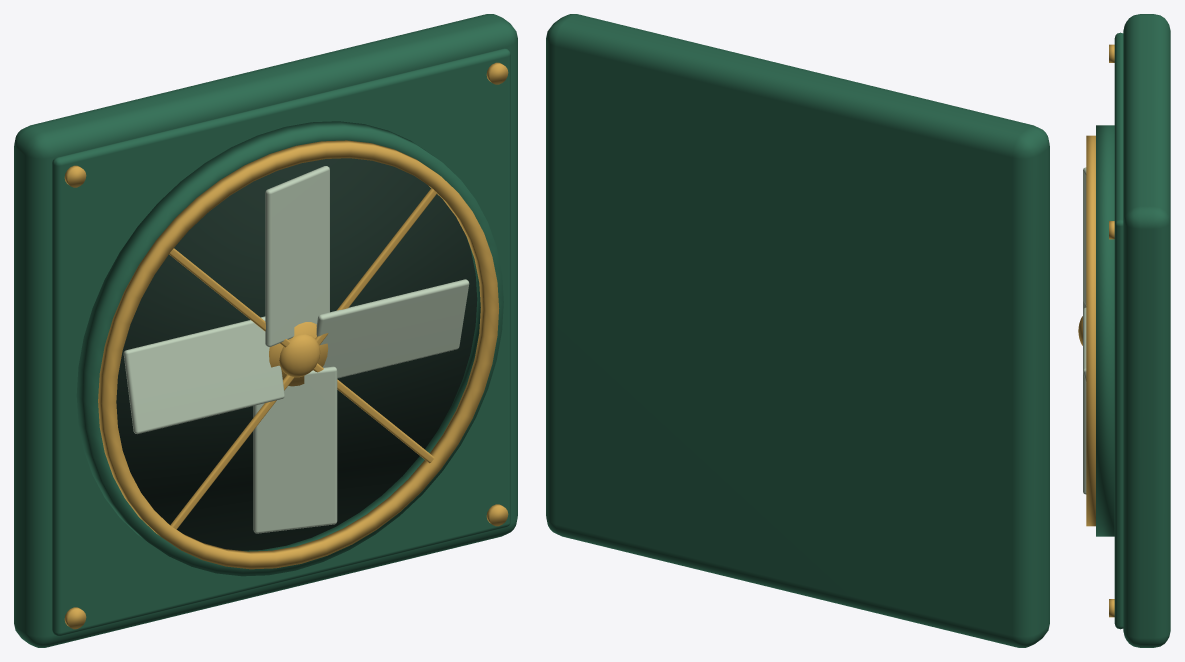
Rendered from exhaust_fan.glb.
3 views of the same model, side by side, from view 1: azimuth 30°, elevation 25°; view 2: azimuth 150°, elevation 25°; view 3: azimuth 270°, elevation 25° (orthographic). The views are drawn at different scales.
Visible parts, largest first — view 1: FrontFrame, Throat, Housing, GuardRing, ThroatLip, Blade2, Blade1, Blade3, Blade0, GuardBar1.6, GuardBar0.0, HubCap (+1 smaller); view 2: Housing; view 3: Housing, ThroatLip, FrontFrame, GuardRing, Blade3, Blade1, Blade0.
Part boxes in pixels (x1=…): FrontFrame: x1=52, y1=48, x2=510, y2=636; Throat: x1=116, y1=158, x2=477, y2=550; Housing: x1=14, y1=14, x2=517, y2=647; GuardRing: x1=98, y1=140, x2=499, y2=569; ThroatLip: x1=76, y1=121, x2=503, y2=576; Blade2: x1=123, y1=316, x2=284, y2=433; Blade1: x1=253, y1=366, x2=337, y2=533; Blade3: x1=265, y1=166, x2=329, y2=346; Blade0: x1=316, y1=279, x2=469, y2=378; GuardBar1.6: x1=170, y1=188, x2=437, y2=529; GuardBar0.0: x1=169, y1=248, x2=434, y2=463; HubCap: x1=279, y1=334, x2=320, y2=377; Housing: x1=546, y1=14, x2=1049, y2=647; Housing: x1=1123, y1=14, x2=1170, y2=647; ThroatLip: x1=1096, y1=125, x2=1114, y2=536; FrontFrame: x1=1114, y1=32, x2=1123, y2=629; GuardRing: x1=1086, y1=135, x2=1095, y2=526; Blade3: x1=1083, y1=167, x2=1086, y2=305; Blade1: x1=1083, y1=372, x2=1086, y2=494; Blade0: x1=1083, y1=307, x2=1086, y2=382.
Bounding box in the file's own units: 0.852 × 0.852 × 0.162.
